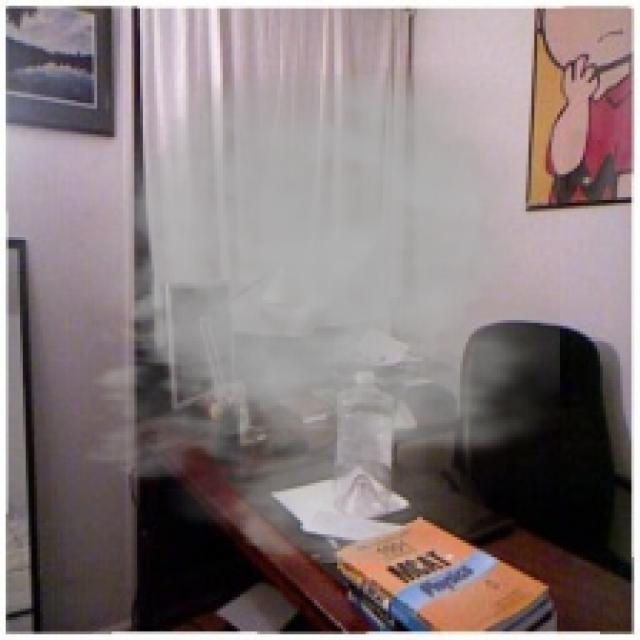smoke: (34, 43, 560, 563)
